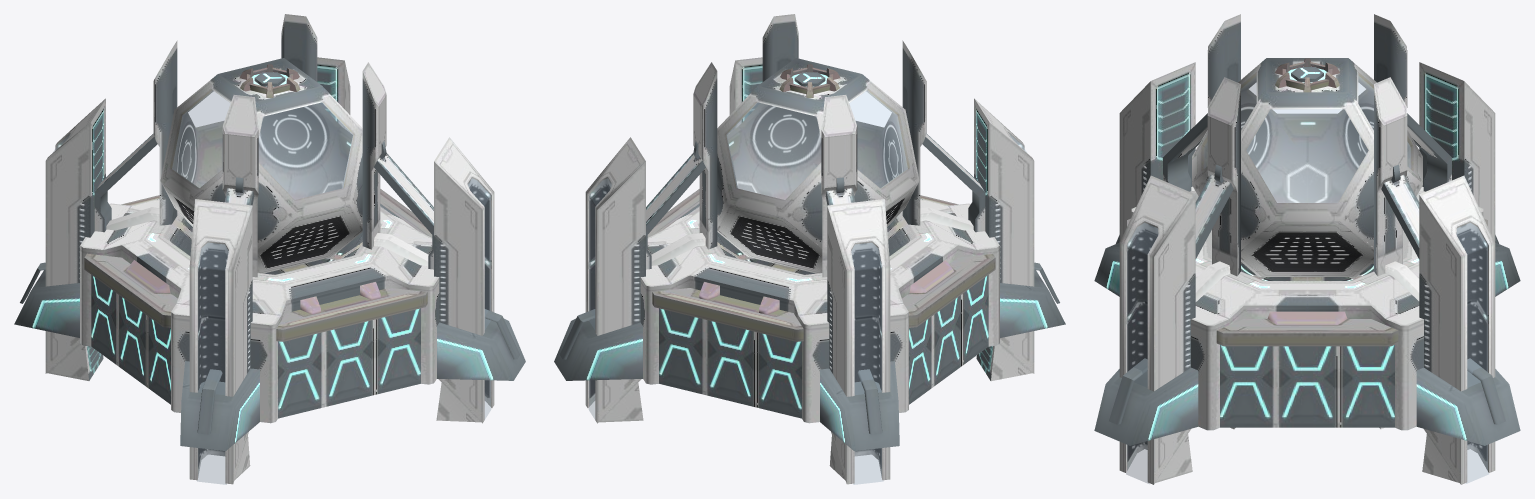
3 views of the same model, side by side, from view 1: azimuth 30°, elevation 25°; view 2: azimuth 150°, elevation 25°; view 3: azimuth 270°, elevation 25° (orthographic). The views are drawn at different scales.
Visible parts, largest first — view 1: lab-2; view 2: lab-2; view 3: lab-2.
Boxes of the visible parts, left/top/right/bottom form: lab-2: left=14, top=14, right=525, bottom=484; lab-2: left=554, top=14, right=1065, bottom=484; lab-2: left=1094, top=14, right=1520, bottom=484.
Size of the model in its own units: 6.78 by 6.29 by 6.78.
2 materials, 1 textured.
